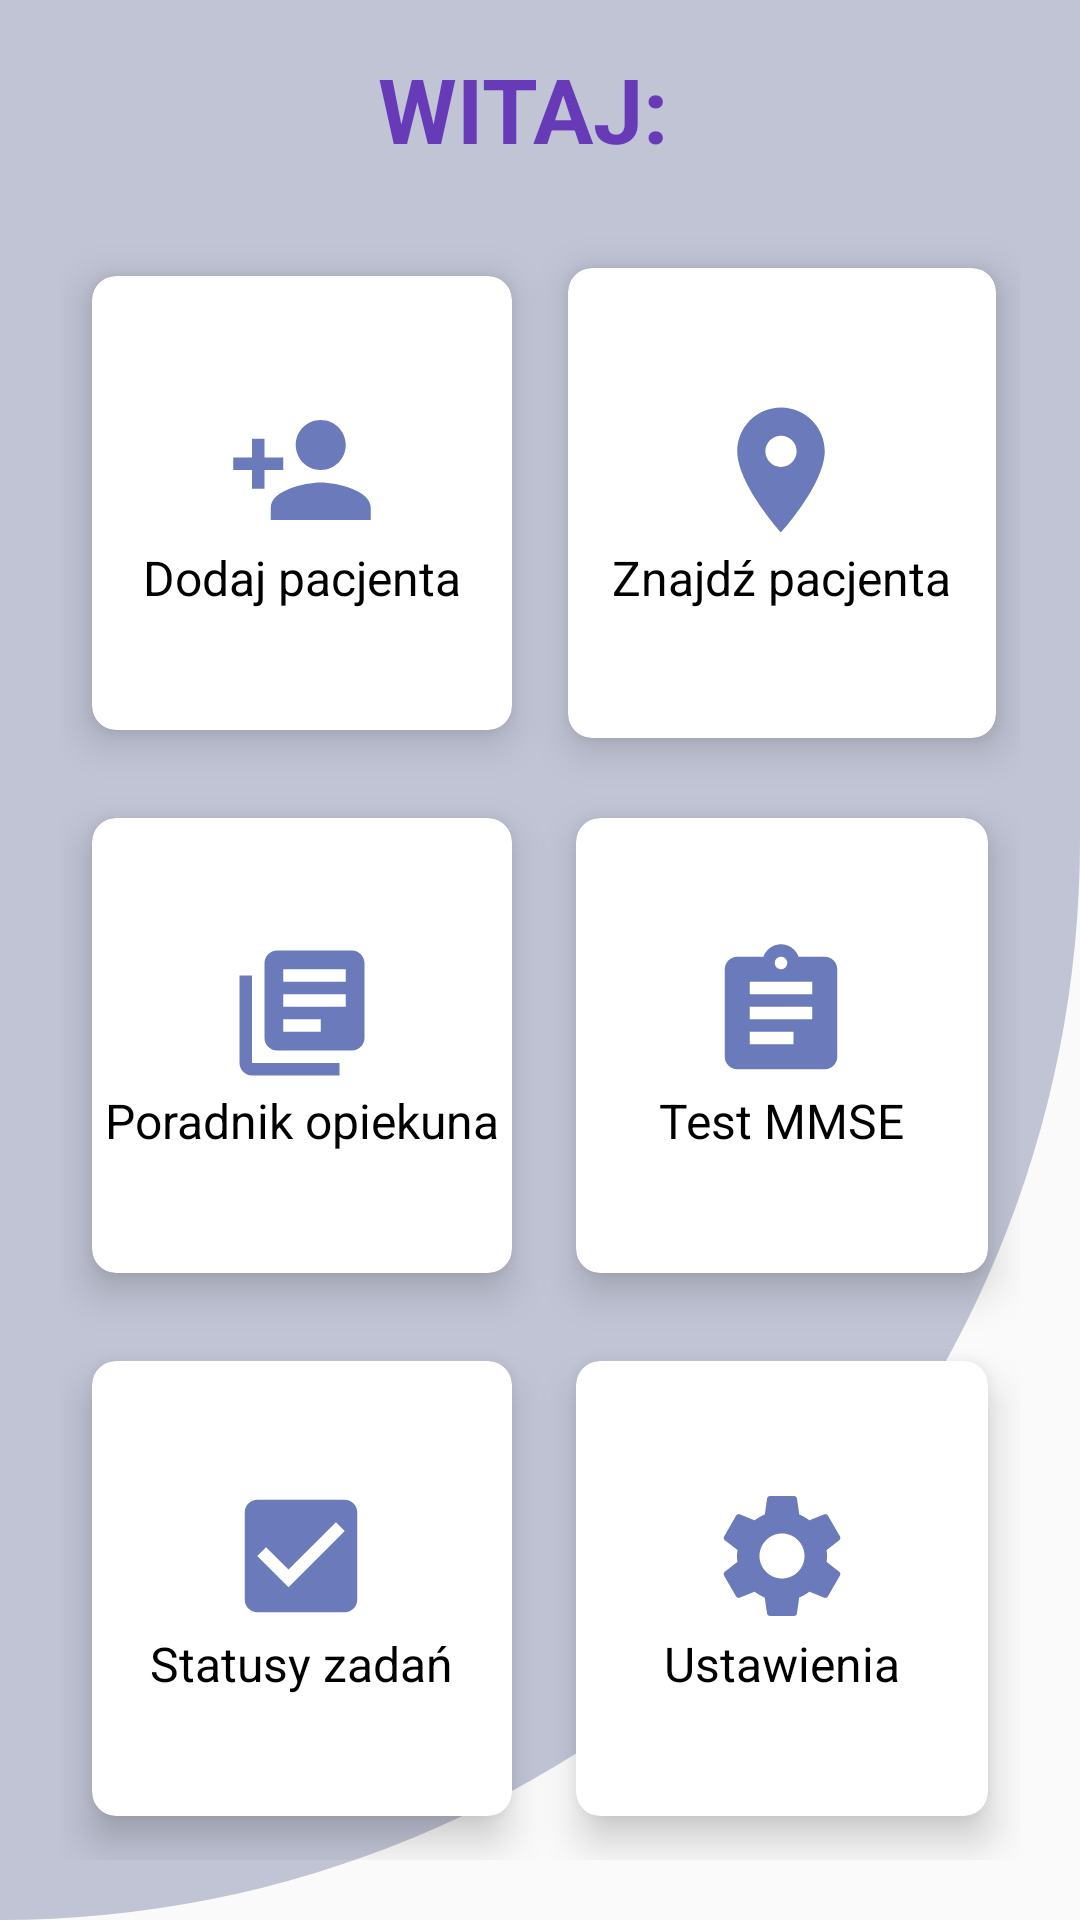

Icons on this 1080px x 1920px Android screen, each with its box as (x1, y1, x2, y2):
checkbox: (244, 1499, 358, 1613)
library: (239, 950, 365, 1076)
location: (737, 407, 825, 532)
